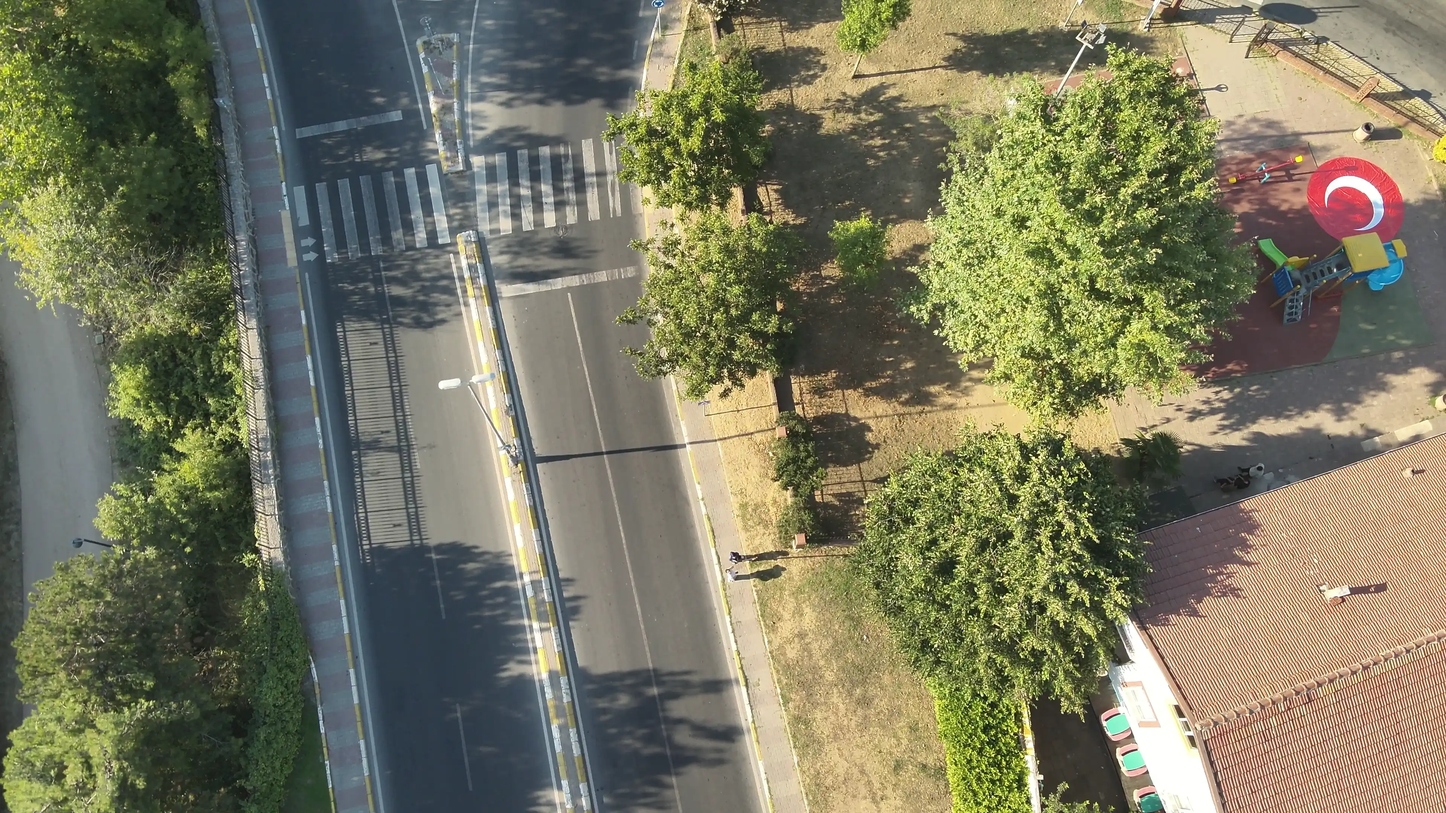person: (723, 567, 741, 586), (728, 550, 743, 565)
